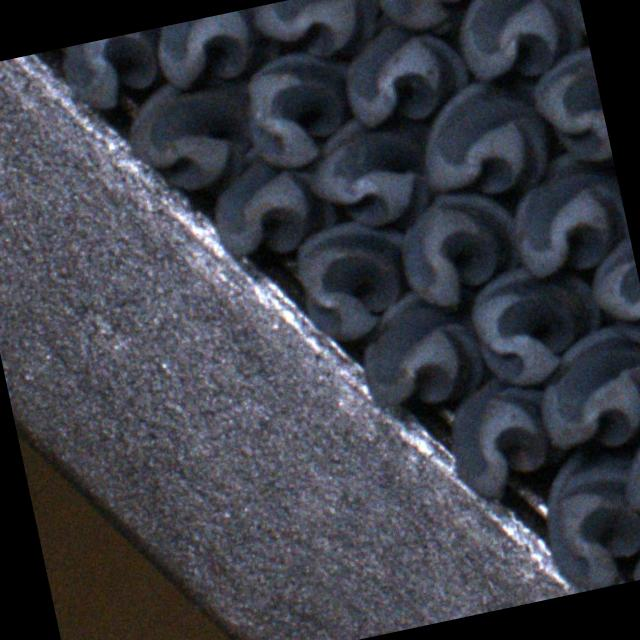tool_b: (460, 255, 610, 392), (410, 74, 556, 209), (116, 71, 261, 202), (348, 283, 488, 417), (500, 146, 634, 284), (392, 182, 531, 314), (301, 106, 441, 237), (287, 212, 422, 346), (233, 41, 366, 172), (203, 146, 342, 270), (332, 14, 472, 132), (524, 319, 640, 461), (532, 444, 640, 596), (440, 375, 564, 505), (448, 0, 592, 90), (150, 3, 283, 92), (58, 27, 176, 119), (526, 47, 612, 170), (250, 0, 389, 68), (582, 236, 640, 352), (371, 0, 487, 37), (613, 420, 640, 548), (620, 533, 640, 582)
